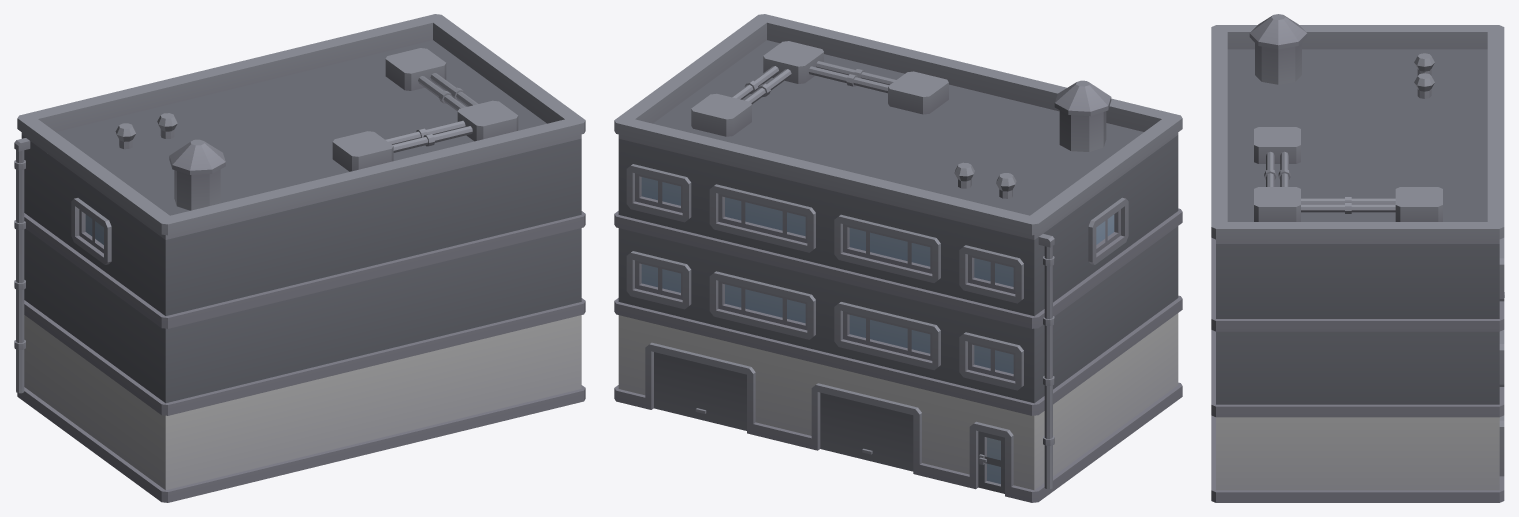
The model's file is factory-a.glb.
3 renders of one model, left to right at view 1: azimuth 30°, elevation 25°; view 2: azimuth 150°, elevation 25°; view 3: azimuth 270°, elevation 25°, orthographic.
Visible parts, largest first — view 1: factory-a; view 2: factory-a; view 3: factory-a.
Part boxes in pixels (<box>): factory-a: <box>14,14,585,502</box>; factory-a: <box>614,14,1182,502</box>; factory-a: <box>1211,14,1504,502</box>.
Bounding box in the file's own units: 2.08 × 1.47 × 1.24.
